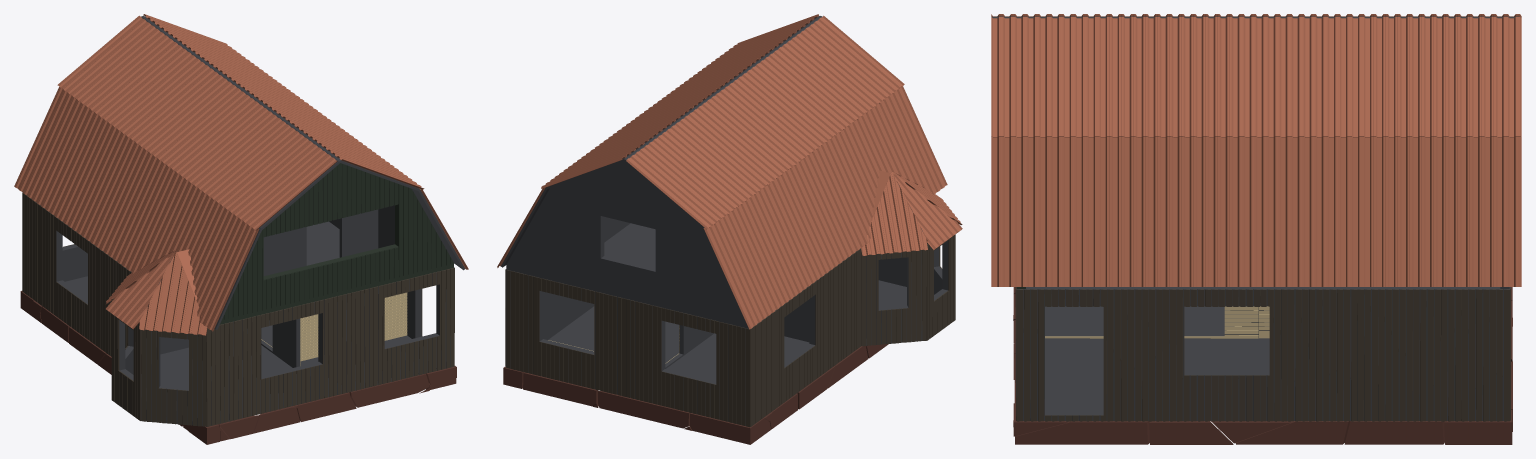
The model's file is Брус.fbx.
3 renders of one model, left to right at view 1: azimuth 30°, elevation 25°; view 2: azimuth 150°, elevation 25°; view 3: azimuth 270°, elevation 25°, orthographic. The views are drawn at different scales.
Visible parts, largest first — view 1: Профнастил.Профиль.Лево, Профнастил.Профиль.Лево.Низ, Стена.Баня.001, Обшивка.Баня.Этаж.2, Стены.1ый.Этаж, Стена.Комната.Мама, Профнастил.Профиль.Право, Фундамент, Фронтон.2ой.Этаж, Обшивка.Баня.Эркер.01, Стены.2ой.Этаж, Право.01 (+7 smaller); view 2: Профнастил.Профиль.Лево, Профнастил.Профиль.Лево.Низ, Фронтон.Деревня.2ой.Этаж, Стена.Деревня, Стена.Комната.Мама, Стены.1ый.Этаж, Фундамент, Профнастил.Профиль.Право, Обшивка.Баня.Эркер.03, Пол.1ый.Этаж, Лево.01, Обшивка.Баня.Эркер.02 (+4 smaller); view 3: Профнастил.Профиль.Право.Низ, Профнастил.Профиль.Право, Стена.Дровник, Стены.1ый.Этаж, Фундамент, Пол.1ый.Этаж, Вагонка.Моя.001, Профнастил.Профиль.Лево, Крыша.
Boxes of the visible parts, x1,y1,x2,y2 form: Профнастил.Профиль.Лево: (57,15,337,230); Профнастил.Профиль.Лево.Низ: (14,87,259,331); Стена.Баня.001: (206,267,454,426); Обшивка.Баня.Этаж.2: (222,163,454,320); Стены.1ый.Этаж: (26,195,450,426); Стена.Комната.Мама: (22,192,131,356); Профнастил.Профиль.Право: (143,14,424,189); Фундамент: (20,291,456,444); Фронтон.2ой.Этаж: (220,163,453,324); Обшивка.Баня.Эркер.01: (141,329,206,426); Стены.2ой.Этаж: (263,205,394,275); Право.01: (139,251,207,335); Профнастил.Профиль.Лево: (626,15,904,229); Профнастил.Профиль.Лево.Низ: (703,86,947,329); Фронтон.Деревня.2ой.Этаж: (506,161,748,328); Стена.Деревня: (506,270,750,427); Стена.Комната.Мама: (750,248,861,426); Стены.1ый.Этаж: (506,170,948,425); Фундамент: (503,344,888,444); Профнастил.Профиль.Право: (541,14,818,188); Обшивка.Баня.Эркер.03: (861,249,926,346); Пол.1ый.Этаж: (548,280,906,380); Лево.01: (861,172,927,255); Обшивка.Баня.Эркер.02: (926,234,955,340); Профнастил.Профиль.Право.Низ: (991,136,1521,286); Профнастил.Профиль.Право: (991,17,1521,137); Стена.Дровник: (1016,289,1510,421); Стены.1ый.Этаж: (1016,287,1509,420); Фундамент: (1013,287,1512,444); Пол.1ый.Этаж: (1045,306,1269,411); Вагонка.Моя.001: (1184,306,1258,338); Профнастил.Профиль.Лево: (991,14,1521,17); Крыша: (991,16,1518,18).
Size of the model in its own units: 740 by 608 by 839.
